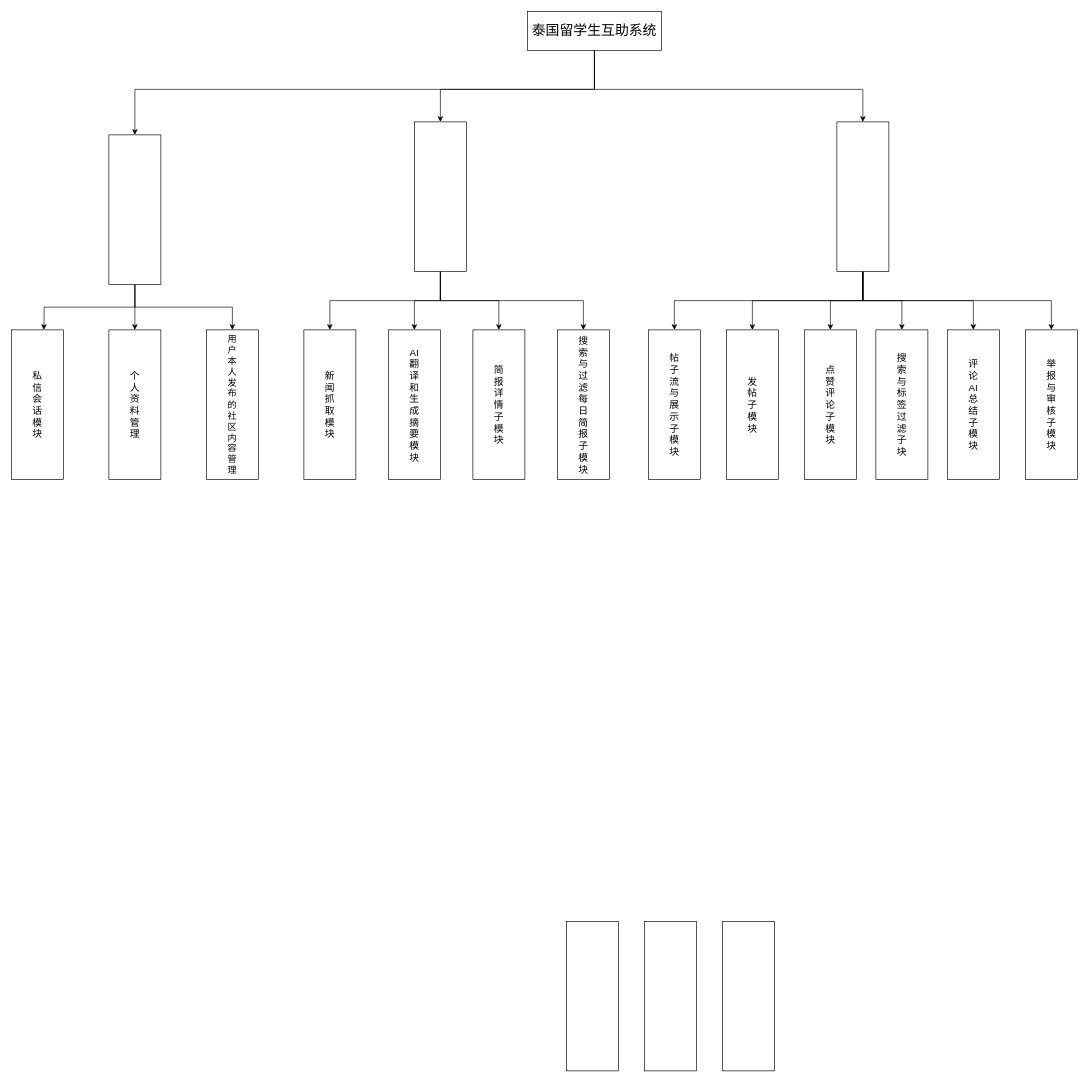
Some shapes in this 1089 by 1082 pixel diagram are drawn without their labels. Each missing label, with the box of its shape:
每 日 简 报 模 块: (414, 121, 466, 271)
社 区 互 动 模 块: (836, 121, 889, 271)
账 号 与 个 人 中 心 模 块: (108, 134, 161, 284)
